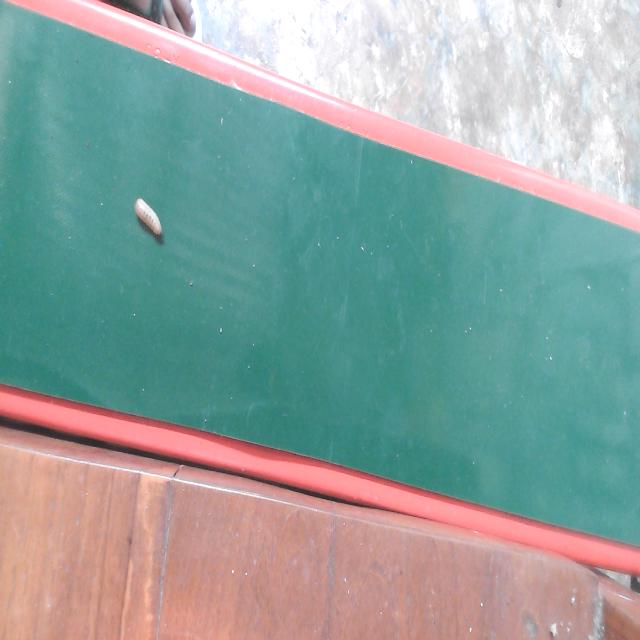Maggot: (132, 199, 164, 244)
